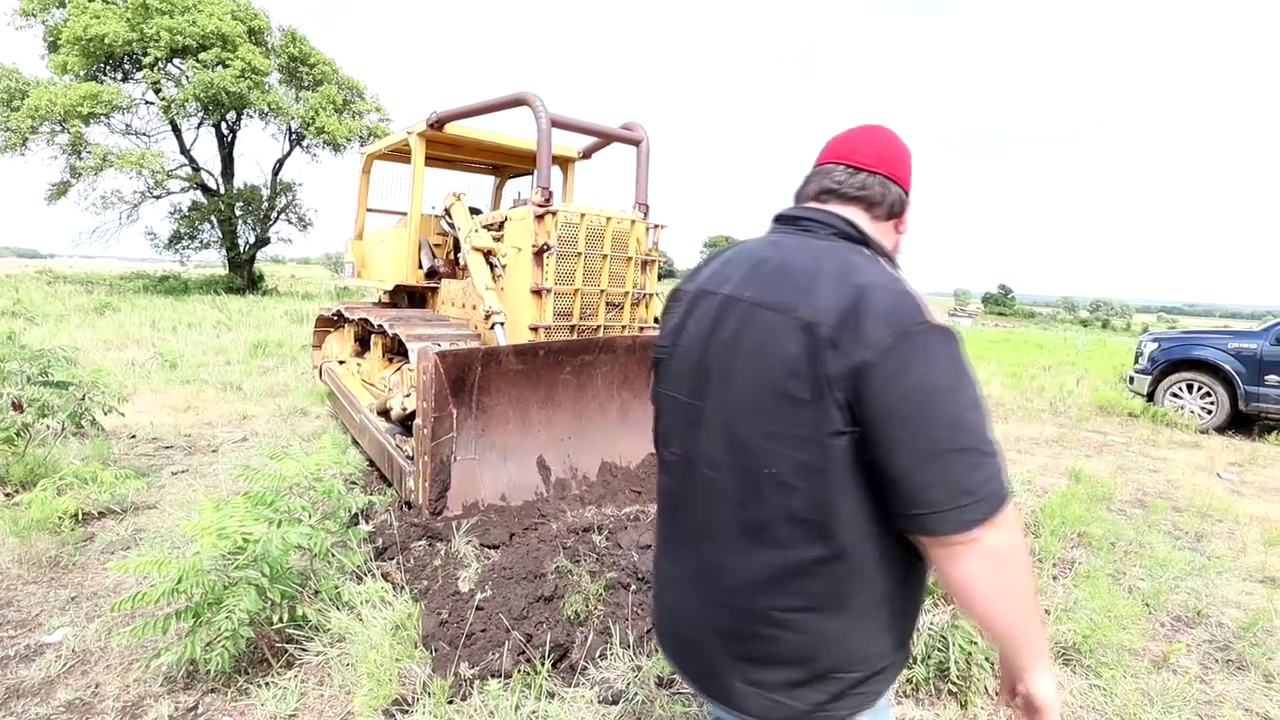bulldozer: (309, 90, 759, 537)
car: (1123, 315, 1280, 433)
person: (655, 121, 1061, 720)
